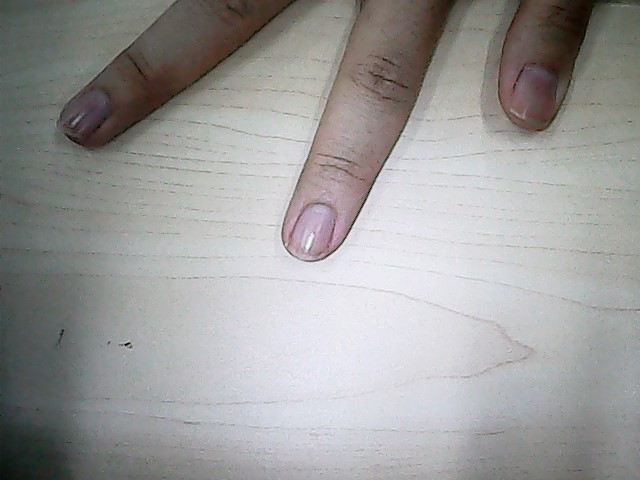nail: (517, 71, 558, 129), (292, 206, 332, 264), (60, 93, 108, 130)
